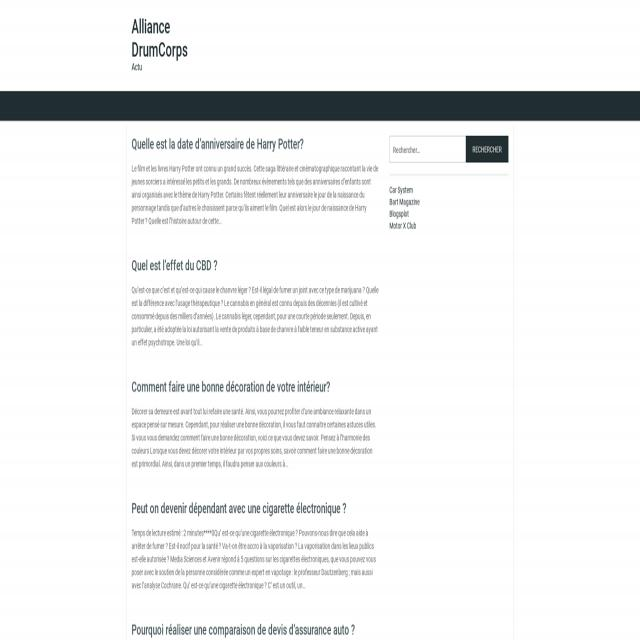button: (466, 136, 508, 162)
field: (389, 136, 508, 162)
